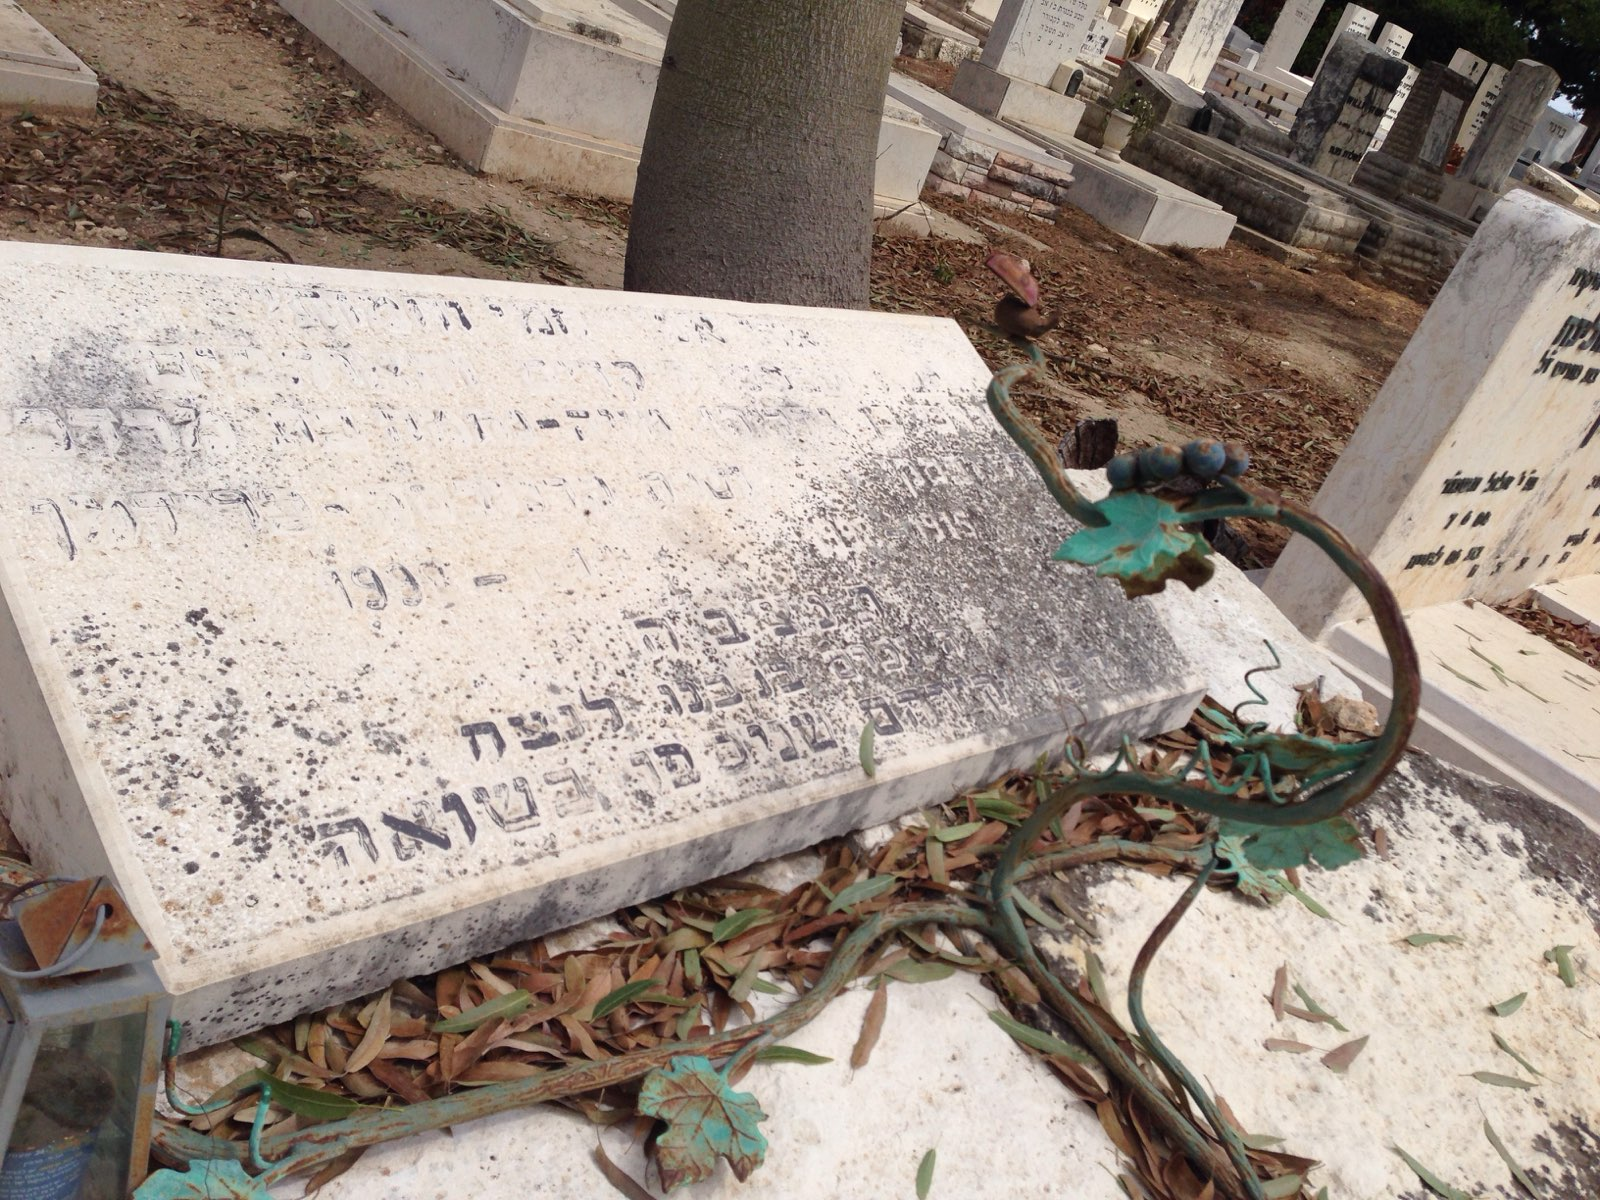slant: (0, 239, 1206, 1061)
